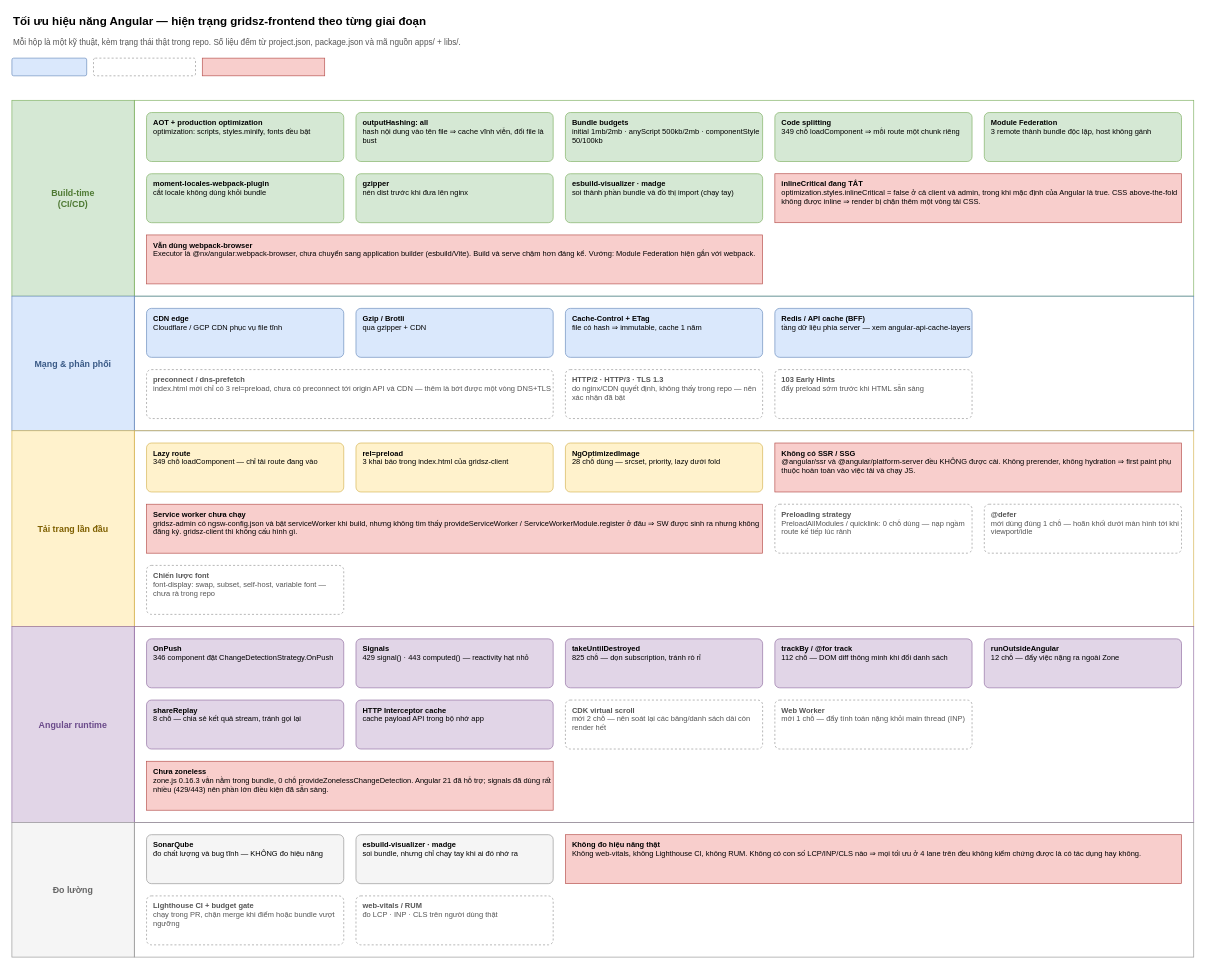
This 1206x969 diagram has some shape labels left out. The box of each missing label's shape, as (x1, y1, x2, y2) in pixels:
khoảng trống / vấn đề: (202, 57, 325, 76)
nên cân nhắc thêm: (93, 57, 196, 76)
đang dùng: (11, 57, 87, 76)
